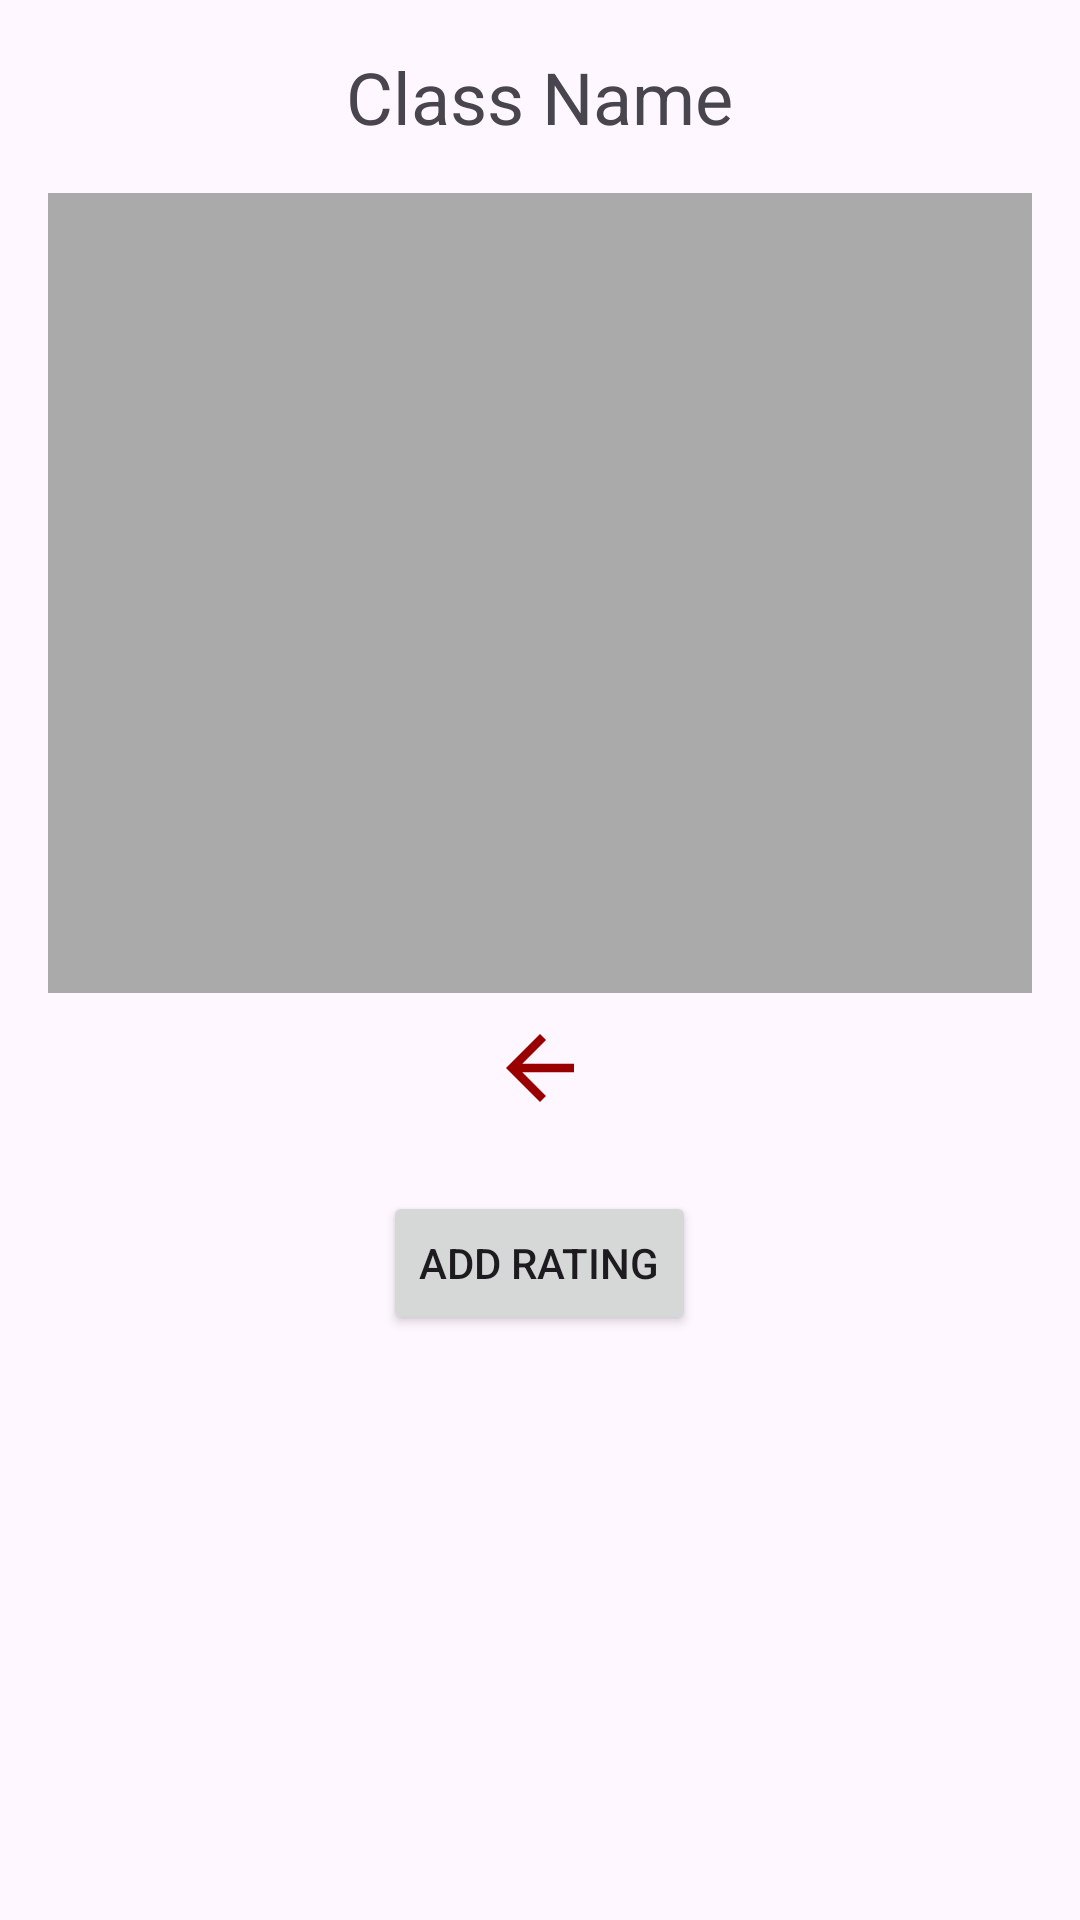

Screen size 1080px×1920px. Icon name, then its center in pixels as point (x, y):
back arrow: point (540, 1068)
